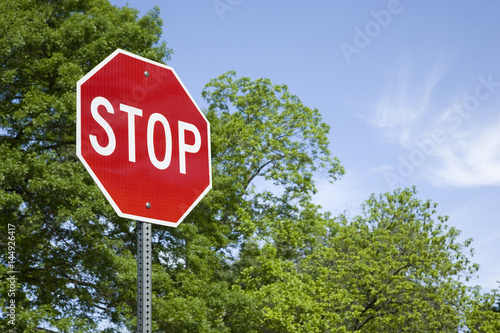StopSign: (76, 47, 212, 228)
